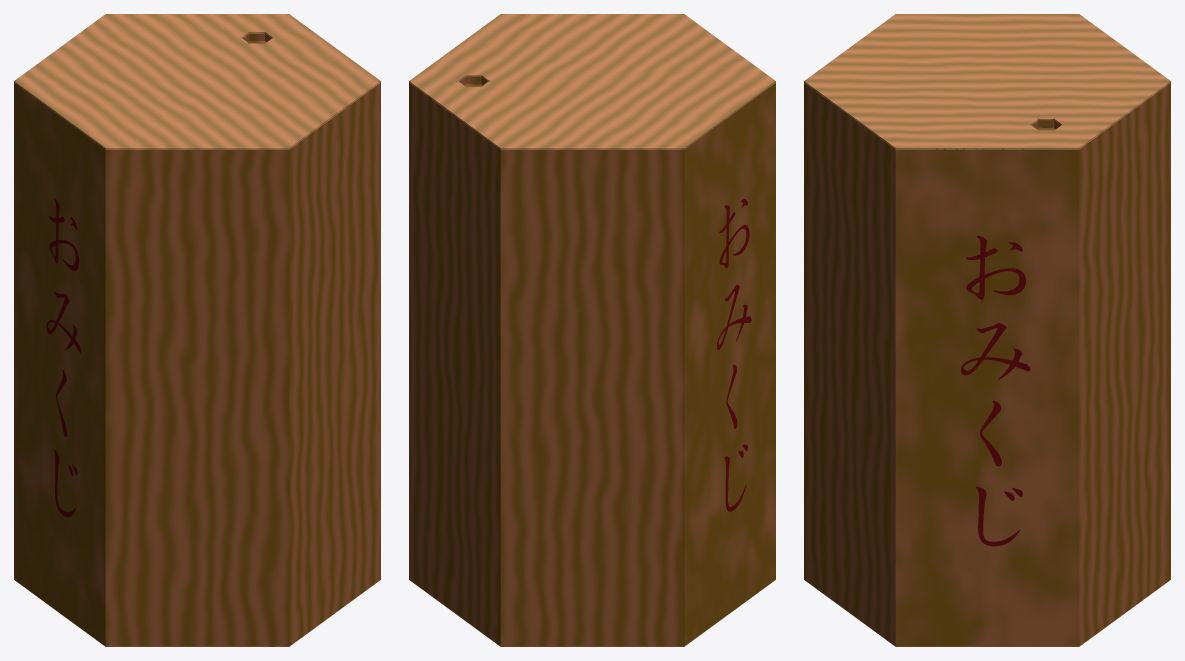
File: おみくじ.glb
3 views of the same model, side by side, from view 1: azimuth 30°, elevation 25°; view 2: azimuth 150°, elevation 25°; view 3: azimuth 270°, elevation 25° (orthographic).
Parts seen in each view (by area): view 1: main, text.2; view 2: main, text.2; view 3: main, text.
Boxes of the visible parts, <box> form: main: <box>14,14,380,646</box>; text.2: <box>46,198,81,517</box>; main: <box>409,14,775,646</box>; text.2: <box>717,199,751,511</box>; main: <box>804,14,1170,646</box>; text: <box>961,235,1030,546</box>.
Bounding box in the file's own units: 1.73 × 3 × 2.
4 materials, 2 textured.
